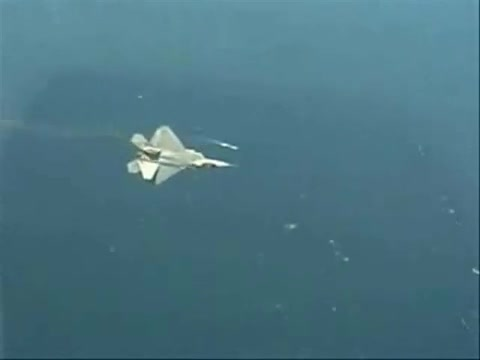aeroplane: (123, 123, 240, 185)
